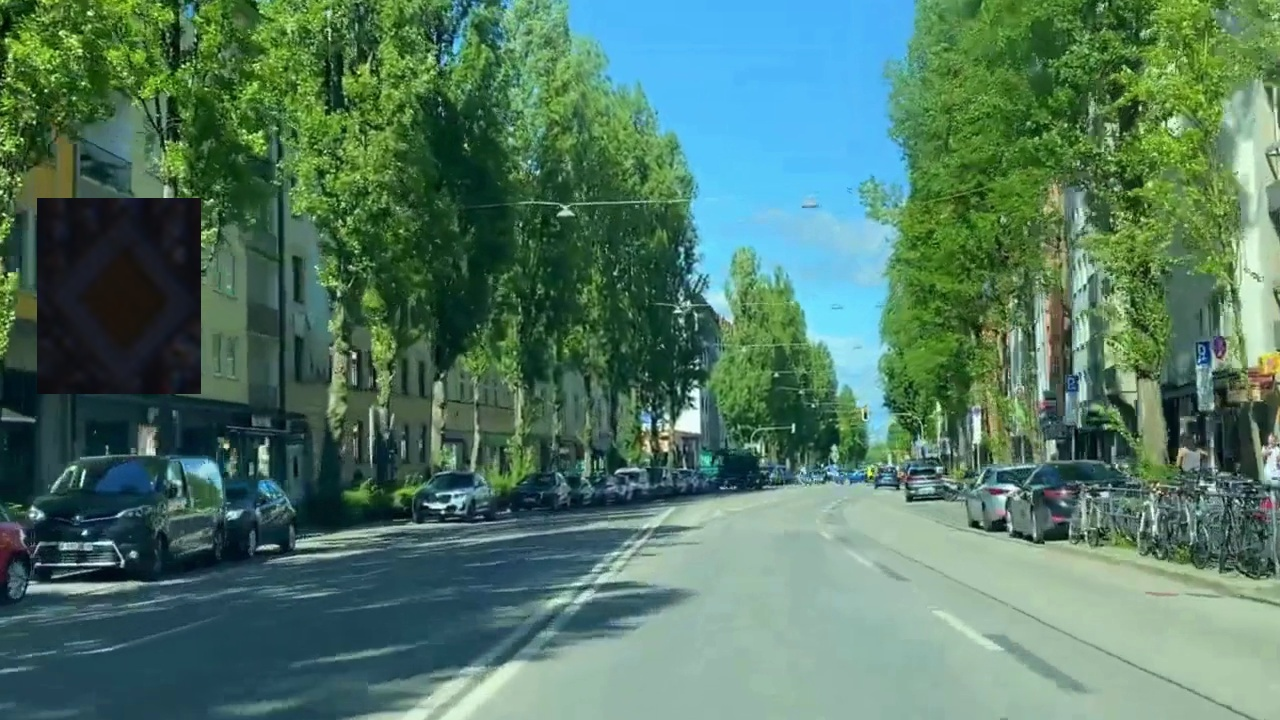Priority road: (37, 198, 201, 394)
